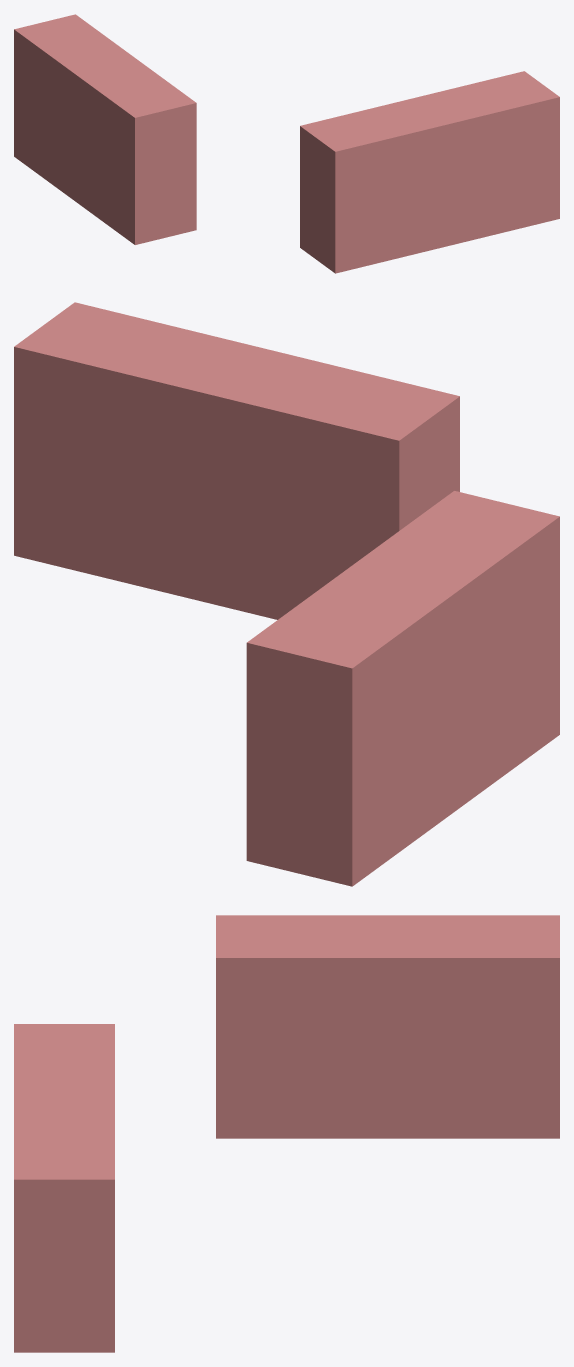
File: 239547_occ.glb
3 views of the same model, one above another, from view 1: azimuth 30°, elevation 25°; view 2: azimuth 150°, elevation 25°; view 3: azimuth 270°, elevation 25° (orthographic). The views are drawn at different scales.
Visible parts, largest first — view 1: world; view 2: world; view 3: world.
Part boxes in pixels (x1,y1,x2,y2): world: (14,14,559,273); world: (14,302,559,886); world: (14,915,559,1352).
Size of the model in its own units: 5.79 by 2.11 by 5.44.
